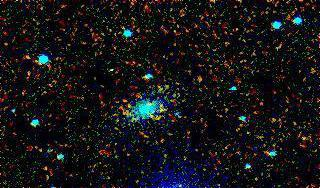star: (143, 93, 173, 123)
